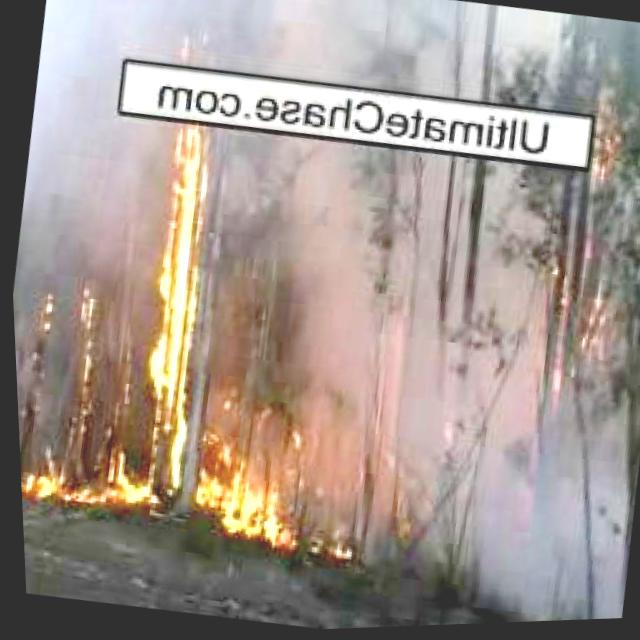helmet: (104, 118, 231, 515), (180, 410, 348, 560), (543, 268, 630, 401), (15, 435, 125, 515), (581, 95, 640, 214), (55, 286, 105, 412)
no_helmet: (4, 90, 640, 508), (39, 0, 640, 145)
